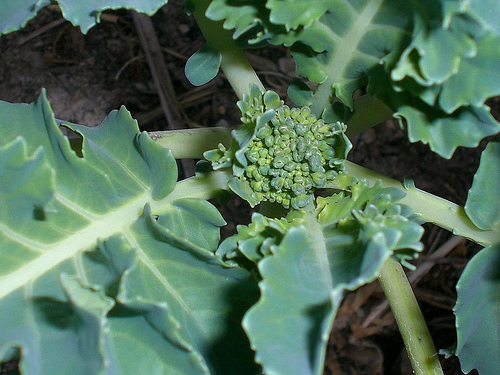broccoli: (246, 104, 351, 211)
